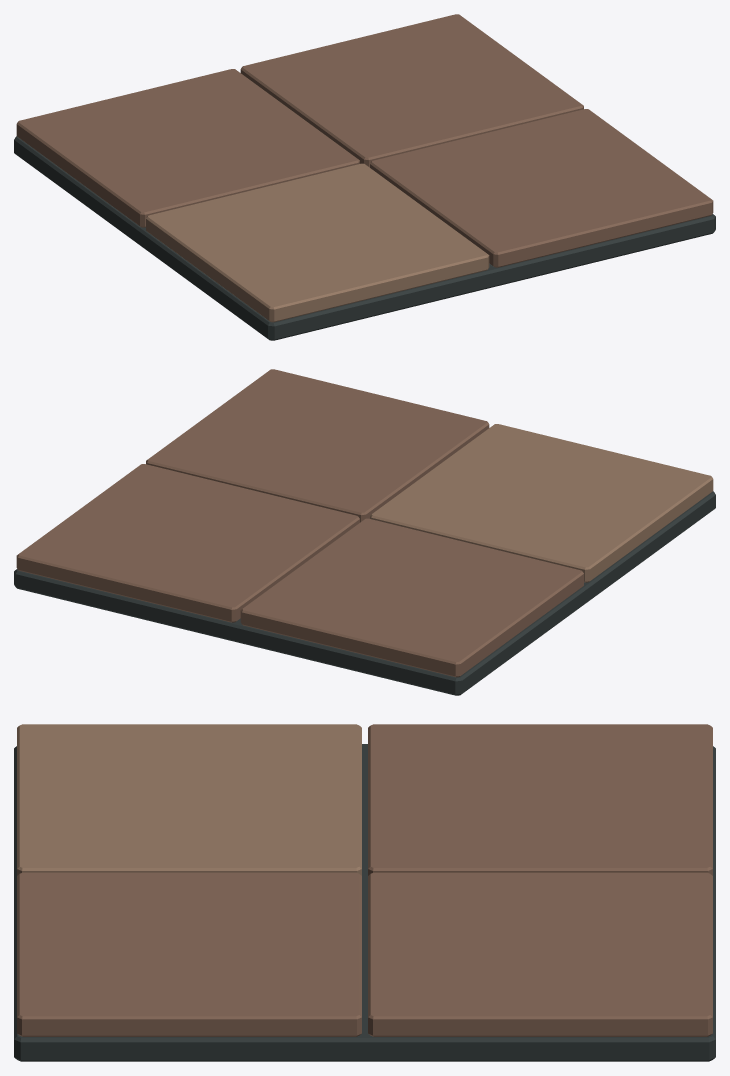
Rendered from floor-plain.glb.
3 renders of one model, top to bottom at view 1: azimuth 30°, elevation 25°; view 2: azimuth 150°, elevation 25°; view 3: azimuth 270°, elevation 25°, orthographic. The views are drawn at different scales.
Parts seen in each view (by area): view 1: floor-plain__body; view 2: floor-plain__body; view 3: floor-plain__body.
Boxes of the visible parts, x1,y1,x2,y2 form: floor-plain__body: (14, 14, 715, 340); floor-plain__body: (14, 369, 715, 695); floor-plain__body: (14, 724, 715, 1061).
Size of the model in its own units: 2 by 0.14 by 2.
